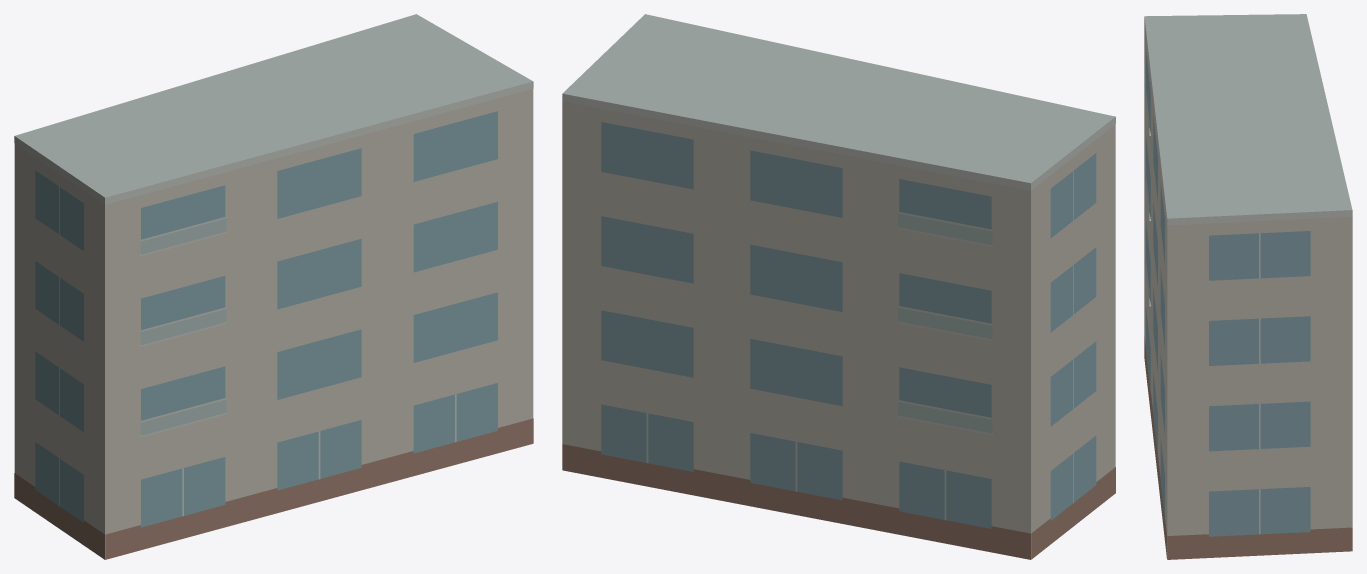
The model's file is survey-upis-32975400.glb.
3 views of the same model, side by side, from view 1: azimuth 30°, elevation 25°; view 2: azimuth 150°, elevation 25°; view 3: azimuth 270°, elevation 25° (orthographic). The views are drawn at different scales.
Visible parts, largest first — view 1: survey-upis-32975400.tmp; view 2: survey-upis-32975400.tmp; view 3: survey-upis-32975400.tmp.
Boxes of the visible parts, left/top/right/bottom form: survey-upis-32975400.tmp: left=14, top=14, right=533, bottom=559; survey-upis-32975400.tmp: left=562, top=14, right=1115, bottom=559; survey-upis-32975400.tmp: left=1144, top=14, right=1352, bottom=559.
Size of the model in its own units: 15.7 by 12.2 by 6.75.
